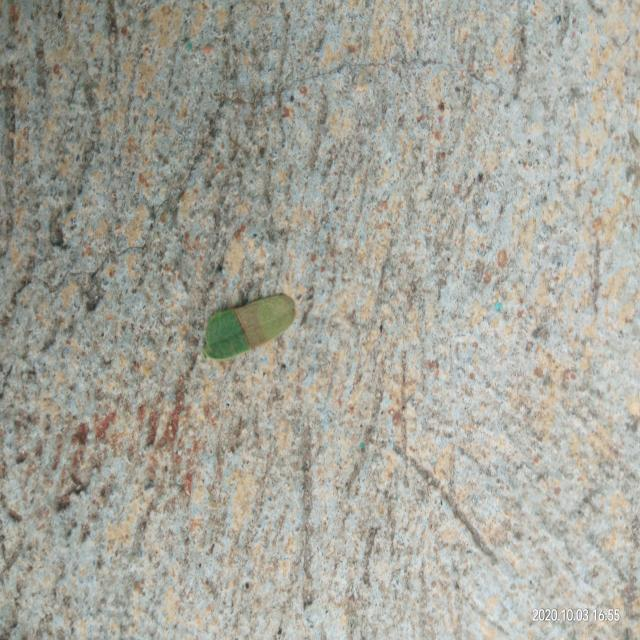defectedtamarind: (236, 295, 295, 348)
tamarind: (202, 295, 295, 360)
